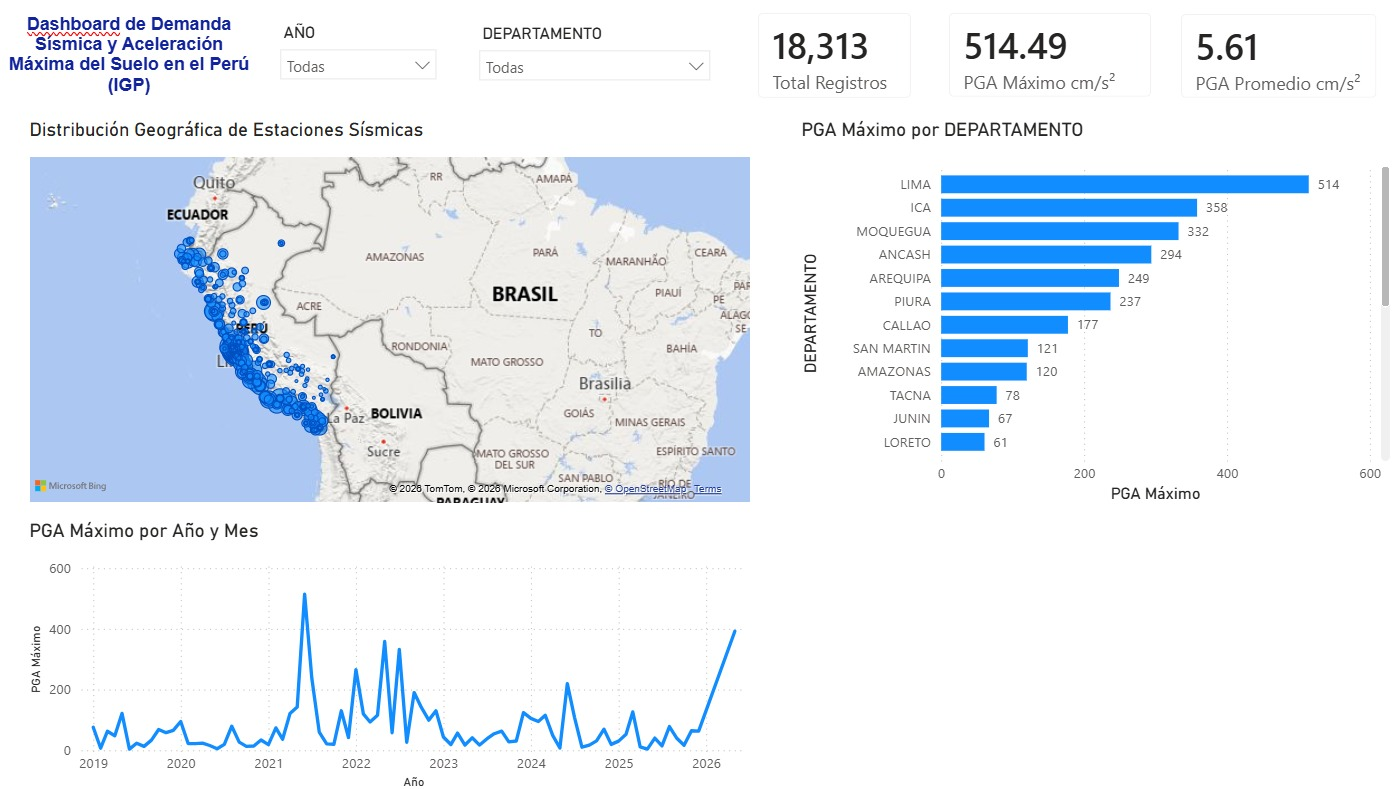

Layout of this report page (visuals, bound fields, positions):
{"tool":"powerbi","page":{"name":"Página 1","canvas":[1280,720],"ordinal":0},"visuals":[{"type":"cardVisual","fields":{"Data":["Medidas.Total Registros"]},"box":[677.9,3.9,171.2,110.9],"z":0},{"type":"cardVisual","fields":{"Data":["Medidas.PGA Promedio"]},"box":[1056.3,4.9,209.1,109.9],"z":1000},{"type":"cardVisual","fields":{"Data":["Medidas.PGA Máximo"]},"box":[849.1,3.9,215.9,109.9],"z":2000},{"type":"map","title":"Distribución Geográfica de Estaciones Sísmicas","fields":{"Y":["ACELDAT_Peru_Procesado.LAT_ESTACION"],"X":["ACELDAT_Peru_Procesado.LON_ESTACION"],"Size":["Sum(ACELDAT_Peru_Procesado.PGA_RESULTANTE)"]},"box":[37.9,114.8,654.6,349.2],"z":3000},{"type":"slicer","fields":{"Values":["ACELDAT_Peru_Procesado.ANIO"]},"box":[257,25.1,160,68.2],"z":4000},{"type":"slicer","fields":{"Values":["ACELDAT_Peru_Procesado.DEPARTAMENTO"]},"box":[435.2,26,227,68],"z":5000},{"type":"barChart","fields":{"Category":["ACELDAT_Peru_Procesado.DEPARTAMENTO"],"Y":["Medidas.PGA Máximo"]},"box":[728.5,114.8,536.9,349.2],"z":6000},{"type":"lineChart","fields":{"Y":["Medidas.PGA Máximo"],"Category":["ACELDAT_Peru_Procesado.FECHA_HORA.Variación.Jerarquía de fechas.Año","ACELDAT_Peru_Procesado.FECHA_HORA.Variación.Jerarquía de fechas.Mes"]},"box":[37.9,473.7,654.6,246.1],"z":7000},{"type":"textbox","box":[14.3,17,234.6,83.3],"z":8000}]}

Visuals, with their boxes in screenshot pixels (x1, y1, x2, y2), scaled from the page's 1280x720 canvas onto the 1400x789 screenshot:
cardVisual - Medidas.Total Registros: 741:4:929:126
cardVisual - Medidas.PGA Promedio: 1155:5:1384:126
cardVisual - Medidas.PGA Máximo: 929:4:1165:125
"Distribución Geográfica de Estaciones Sísmicas" map: 41:126:757:508
slicer - ACELDAT_Peru_Procesado.ANIO: 281:28:456:102
slicer - ACELDAT_Peru_Procesado.DEPARTAMENTO: 476:28:724:103
barChart - ACELDAT_Peru_Procesado.DEPARTAMENTO x Medidas.PGA Máximo: 797:126:1384:508
lineChart - Medidas.PGA Máximo x ACELDAT_Peru_Procesado.FECHA_HORA.Variación.Jerarquía de fechas.Año: 41:519:757:788
textbox: 16:19:272:110
